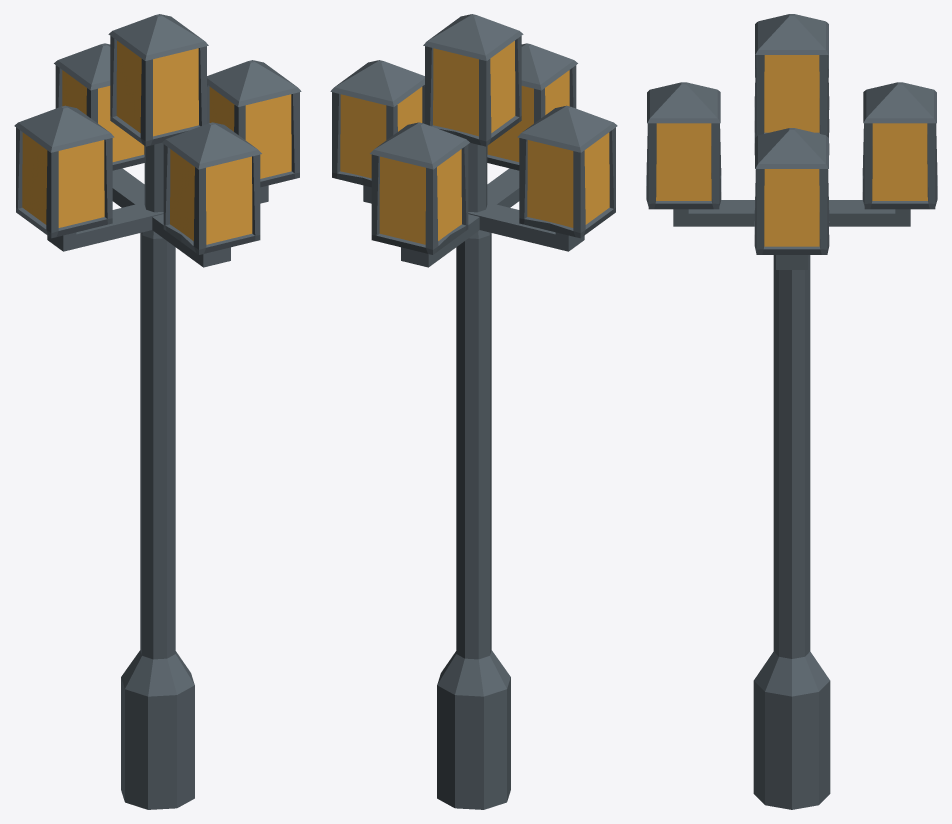
The model's file is Streetlight_2.fbx.
3 renders of one model, left to right at view 1: azimuth 30°, elevation 25°; view 2: azimuth 150°, elevation 25°; view 3: azimuth 270°, elevation 25°, orthographic.
Parts seen in each view (by area): view 1: Streetlight_2; view 2: Streetlight_2; view 3: Streetlight_2.
Part boxes in pixels (x1,y1,x2,y2): Streetlight_2: (14, 14, 301, 809); Streetlight_2: (330, 14, 617, 809); Streetlight_2: (646, 14, 937, 809).
Size of the model in its own units: 67.86 by 200 by 67.86.
